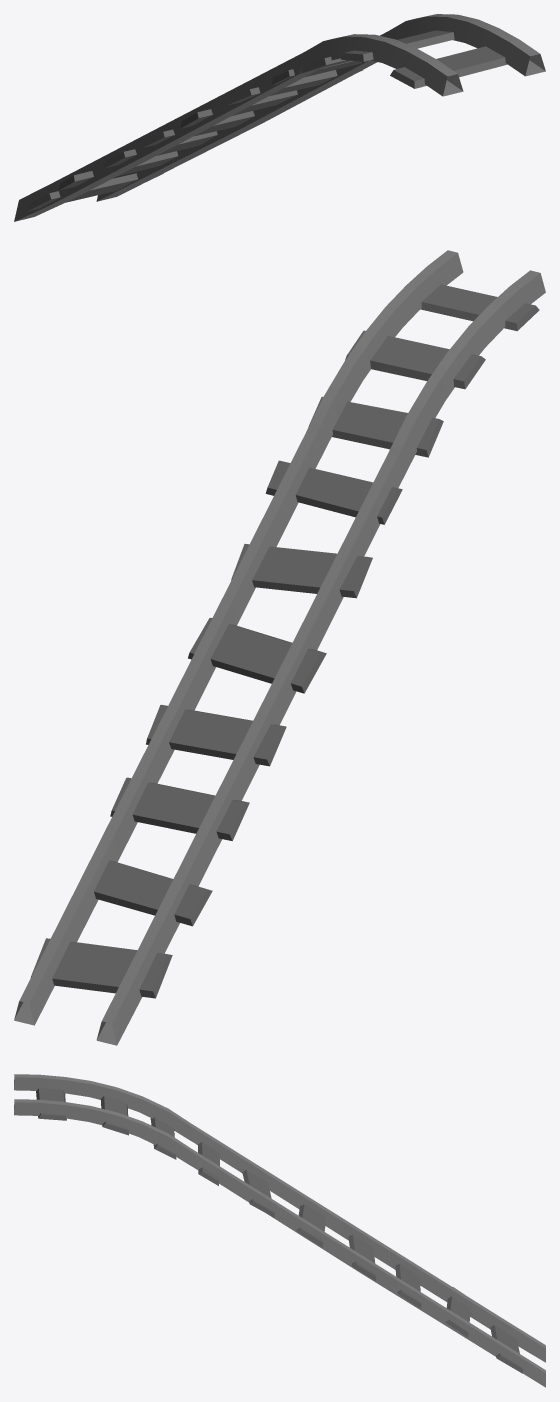
File: Ray_Slope_03.fbx
3 renders of one model, top to bottom at view 1: azimuth 30°, elevation 25°; view 2: azimuth 150°, elevation 25°; view 3: azimuth 270°, elevation 25°, orthographic. The views are drawn at different scales.
Parts seen in each view (by area): view 1: Ray_Slope_03; view 2: Ray_Slope_03; view 3: Ray_Slope_03.
Boxes of the visible parts, x1,y1,x2,y2 form: Ray_Slope_03: (14, 14, 545, 221); Ray_Slope_03: (14, 250, 545, 1045); Ray_Slope_03: (14, 1074, 545, 1387).
Bounding box in the file's own units: 643 × 2091 × 3549.
